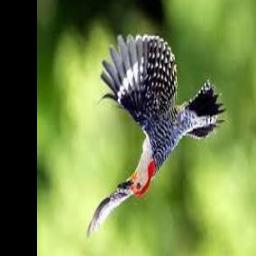Woodpecker: (87, 35, 224, 241)
